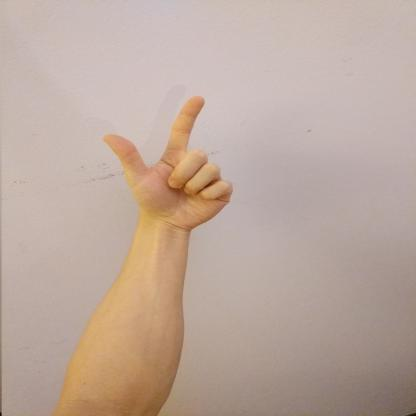L: (99, 93, 237, 231)
